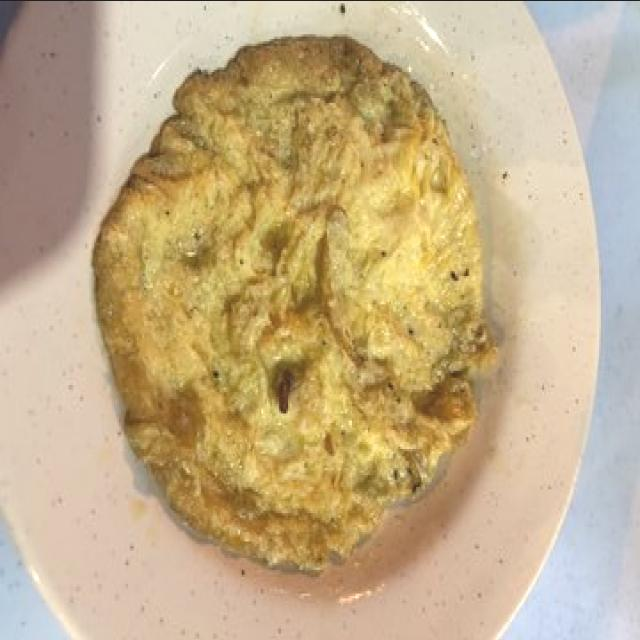telur dadar: (87, 33, 503, 578)
